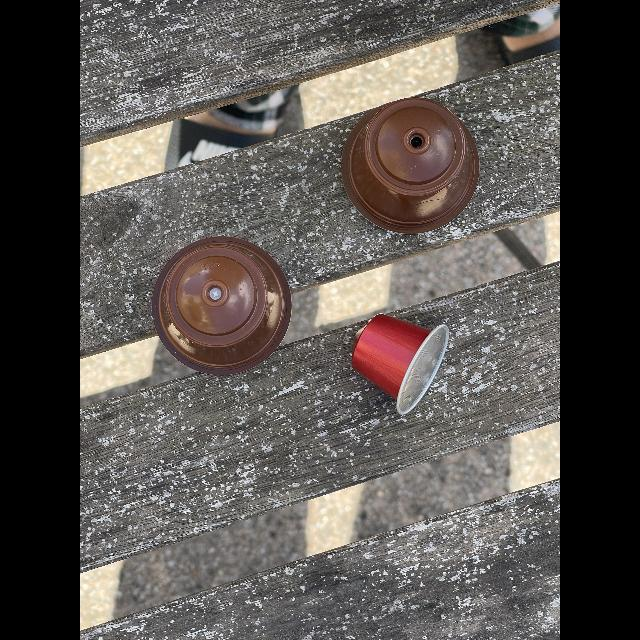intact_capsule: (337, 91, 498, 241), (148, 236, 300, 384), (345, 308, 461, 418)
